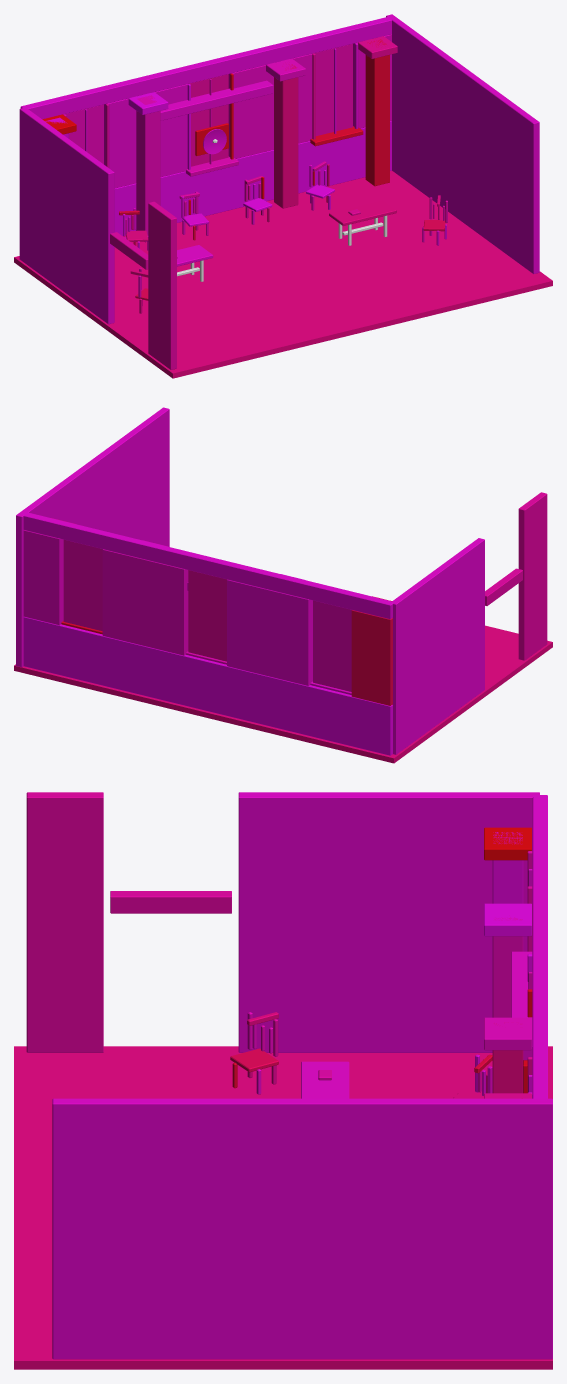
The model's file is court_chapter_03.glb.
3 renders of one model, top to bottom at view 1: azimuth 30°, elevation 25°; view 2: azimuth 150°, elevation 25°; view 3: azimuth 270°, elevation 25°, orthographic. The views are drawn at different scales.
Visible parts, largest first — view 1: Floor, WallRight, WallLeftRear, WallBackLow, WallBackHigh, WallLeftFront, WallBackPier_1, WallBackPier_2, AudiencePier_2, AudiencePier_3, Glazing_2, AudiencePier_1 (+21 smaller); view 2: WallBackLow, WallLeftRear, WallRight, WallBackPier_2, WallBackPier_1, WallBackHigh, Floor, WallLeftFront, WallBackPier_0, WallBackPier_end, Glazing_2, Glazing_1 (+2 smaller); view 3: WallRight, WallLeftRear, Floor, WallLeftFront, WallBackHigh, DoorLintel, Chair_officials_2, AudiencePier_1, Desk_0, AudienceCapital_1, AudienceCapital_2, AudiencePier_0 (+4 smaller).
Part boxes in pixels (x1,y1,x2,y2): Floor: (14, 170, 552, 378); WallRight: (386, 14, 539, 273); WallLeftRear: (19, 108, 114, 324); WallBackLow: (114, 121, 391, 235); WallBackHigh: (20, 16, 393, 119); WallLeftFront: (148, 201, 176, 369); WallBackPier_1: (104, 84, 187, 188); WallBackPier_2: (228, 54, 312, 158); AudiencePier_2: (274, 62, 298, 208); AudiencePier_3: (365, 39, 389, 186); Glazing_2: (313, 44, 352, 135); AudiencePier_1: (136, 95, 160, 242); WallBackLow: (23, 616, 392, 755); WallLeftRear: (392, 538, 484, 754); WallRight: (16, 407, 169, 667); WallBackPier_2: (102, 549, 188, 655); WallBackPier_1: (227, 579, 312, 685); WallBackHigh: (21, 512, 393, 619); Floor: (14, 625, 552, 763); WallLeftFront: (518, 492, 547, 660); WallBackPier_0: (351, 610, 392, 705); WallBackPier_end: (23, 530, 63, 625); Glazing_2: (63, 539, 102, 631); Glazing_1: (188, 570, 226, 661); WallRight: (52, 1098, 552, 1359); WallLeftRear: (238, 792, 539, 1052); Floor: (14, 1046, 552, 1369); WallLeftFront: (26, 792, 103, 1052); WallBackHigh: (532, 795, 547, 1100); DoorLintel: (110, 891, 231, 913); Chair_officials_2: (230, 1012, 278, 1094); AudiencePier_1: (492, 915, 523, 1017); Desk_0: (301, 1061, 349, 1098); AudienceCapital_1: (484, 903, 531, 936); AudienceCapital_2: (484, 1017, 531, 1050); AudiencePier_0: (492, 832, 523, 903).
Size of the model in its own units: 11.6 by 4.55 by 8.4.
